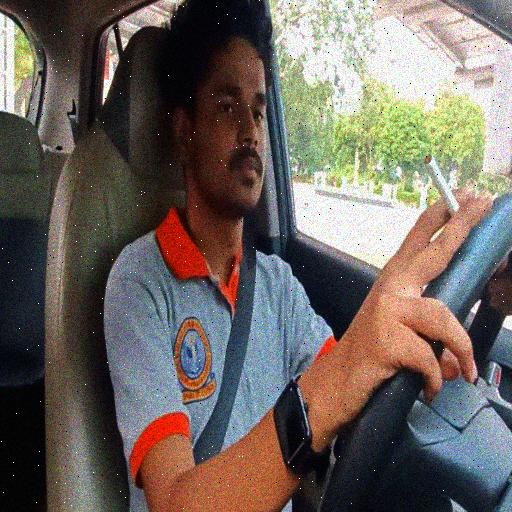Smoking: (101, 23, 512, 512)
